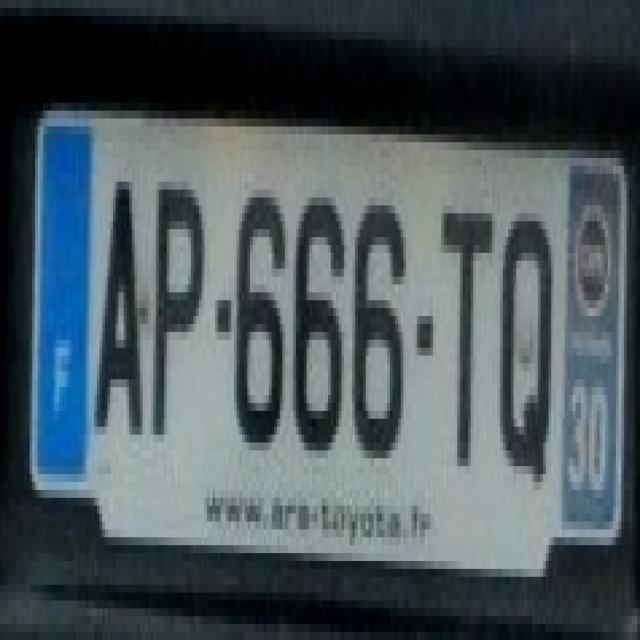EU: (30, 120, 625, 542)
France: (34, 122, 92, 483)
